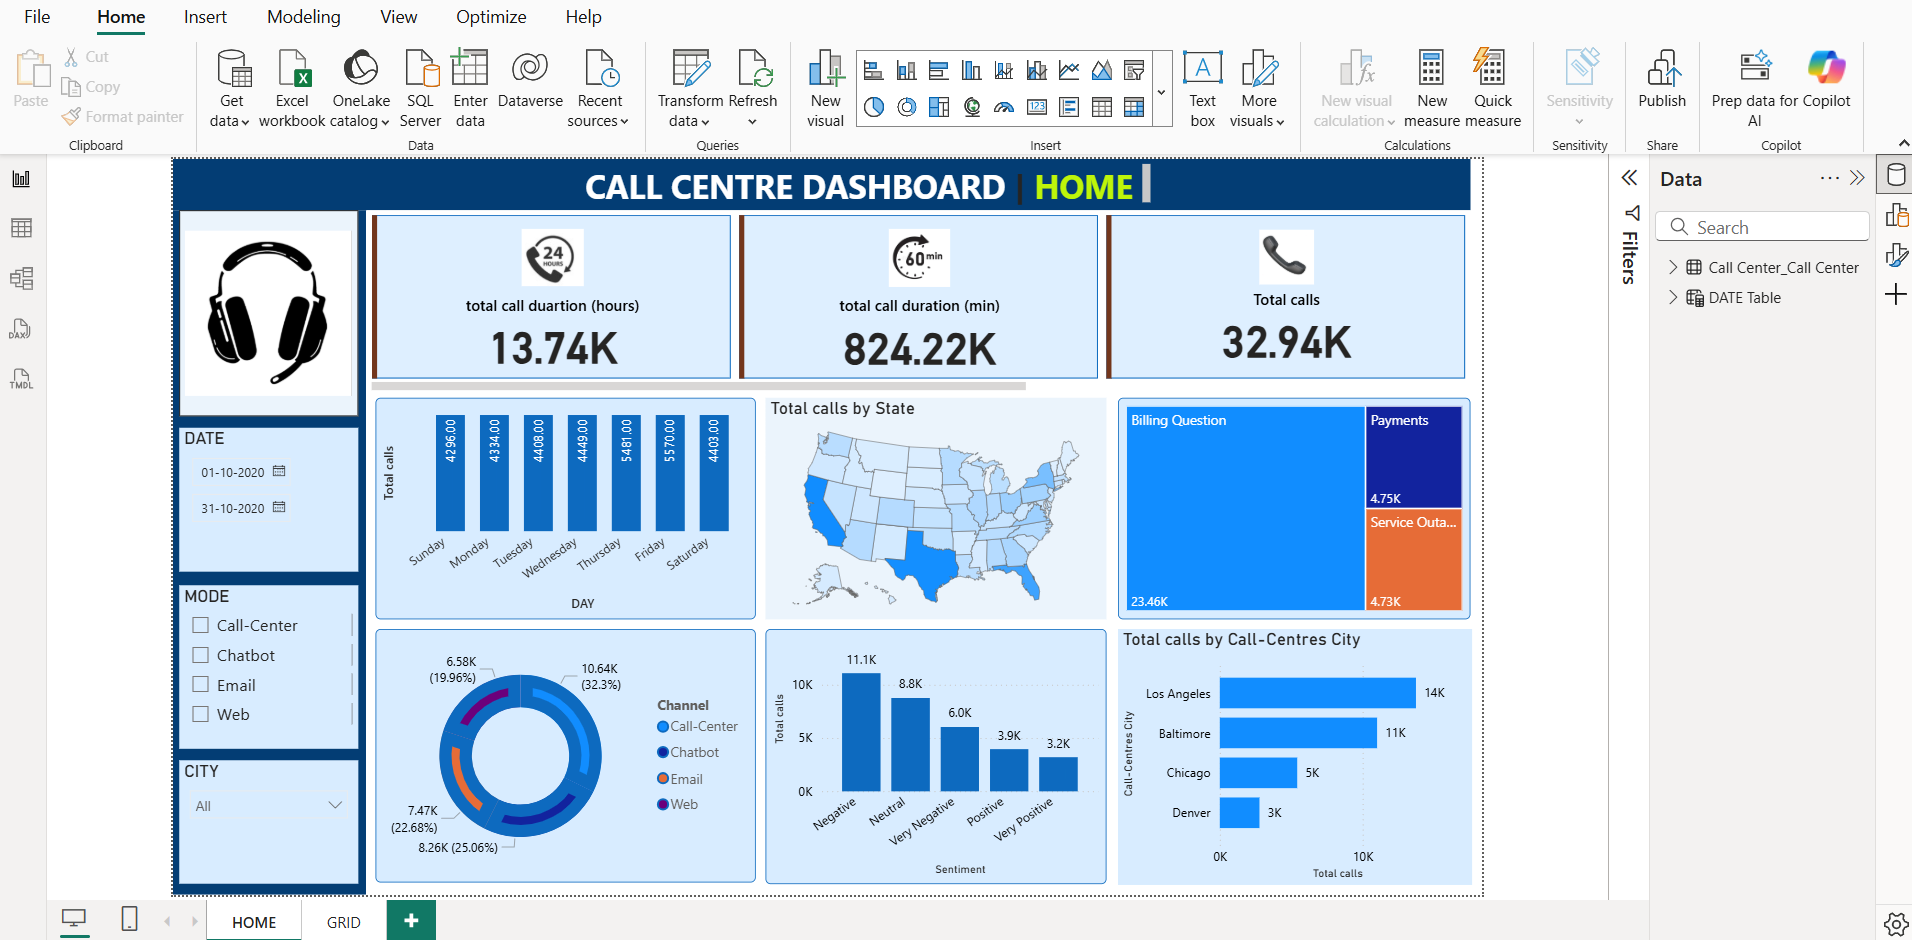

Layout of this report page (visuals, bound fields, positions):
{"tool":"powerbi","page":{"name":"HOME","canvas":[1280,720],"ordinal":0},"visuals":[{"type":"shape","box":[0,0,1269.3,50.1],"z":0},{"type":"shape","box":[0,50.5,189,669.4],"z":1000},{"type":"cardVisual","fields":{"Data":["Call Center_Call Center.total call duartion (hours)","Call Center_Call Center.total call duration (min)","Call Center_Call Center.Total calls","Call Center_Call Center.response time %","Call Center_Call Center.avg callduration (min)"]},"box":[189.5,50.1,1081,183.4],"z":2000},{"type":"textbox","box":[398.8,0,562.5,50],"z":3000},{"type":"columnChart","fields":{"Category":["DATE Table.DAY"],"Y":["Call Center_Call Center.Total calls"]},"box":[198.1,233.6,371.7,216.4],"z":4000},{"type":"shapeMap","fields":{"Category":["Call Center_Call Center.State"],"Value":["Call Center_Call Center.Total calls"]},"box":[579.6,233.6,333.8,216.4],"z":5000},{"type":"treemap","fields":{"Group":["Call Center_Call Center.Reason"],"Values":["Call Center_Call Center.Total calls"]},"box":[924.5,233.6,344.8,216.4],"z":6000},{"type":"donutChart","fields":{"Category":["Call Center_Call Center.Channel"],"Y":["Call Center_Call Center.Total calls"]},"box":[198.1,459.8,371.7,248.2],"z":7000},{"type":"columnChart","fields":{"Category":["Call Center_Call Center.Sentiment"],"Y":["Call Center_Call Center.Total calls"]},"box":[579.6,459.8,333.8,249.5],"z":8000},{"type":"barChart","fields":{"Category":["Call Center_Call Center.Call-Centres City"],"Y":["Call Center_Call Center.Total calls"]},"box":[924.5,459.8,346.1,250.7],"z":9000},{"type":"slicer","title":"DATE","fields":{"Values":["DATE Table.Date"]},"box":[6.1,262.9,174.9,140.6],"z":10000},{"type":"slicer","title":"MODE","fields":{"Values":["Call Center_Call Center.Channel"]},"box":[6.1,417,174.9,160.2],"z":11000},{"type":"slicer","title":"CITY","fields":{"Values":["Call Center_Call Center.City"]},"box":[6.1,588.2,174.9,121.1],"z":12000},{"type":"image","box":[6.1,50.1,174.9,201.8],"z":13000}]}

Visuals, with their boxes on the page's 1280x720 design canvas (x1, y1, x2, y2). These are canvas units, not pixel positions in the 1912x940 screenshot, which may show the page scaled, cropped or inside an application window:
shape: BBox(0, 0, 1269, 50)
shape: BBox(0, 50, 189, 720)
cardVisual - Call Center_Call Center.total call duartion (hours) x Call Center_Call Center.total call duration (min): BBox(190, 50, 1270, 234)
textbox: BBox(399, 0, 961, 50)
columnChart - DATE Table.DAY x Call Center_Call Center.Total calls: BBox(198, 234, 570, 450)
shapeMap - Call Center_Call Center.State x Call Center_Call Center.Total calls: BBox(580, 234, 913, 450)
treemap - Call Center_Call Center.Reason x Call Center_Call Center.Total calls: BBox(924, 234, 1269, 450)
donutChart - Call Center_Call Center.Channel x Call Center_Call Center.Total calls: BBox(198, 460, 570, 708)
columnChart - Call Center_Call Center.Sentiment x Call Center_Call Center.Total calls: BBox(580, 460, 913, 709)
barChart - Call Center_Call Center.Call-Centres City x Call Center_Call Center.Total calls: BBox(924, 460, 1271, 710)
"DATE" slicer: BBox(6, 263, 181, 404)
"MODE" slicer: BBox(6, 417, 181, 577)
"CITY" slicer: BBox(6, 588, 181, 709)
image: BBox(6, 50, 181, 252)
